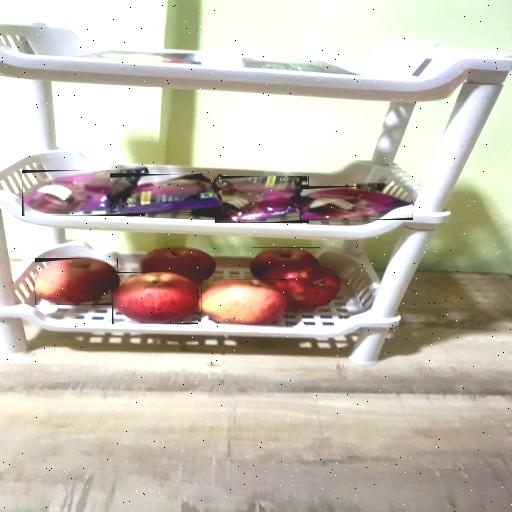Apple: (112, 272, 198, 324), (201, 280, 288, 328), (36, 258, 120, 305), (252, 247, 320, 278)
Choco Pie: (22, 170, 145, 216), (215, 176, 309, 223), (112, 174, 221, 213), (300, 186, 413, 220)
